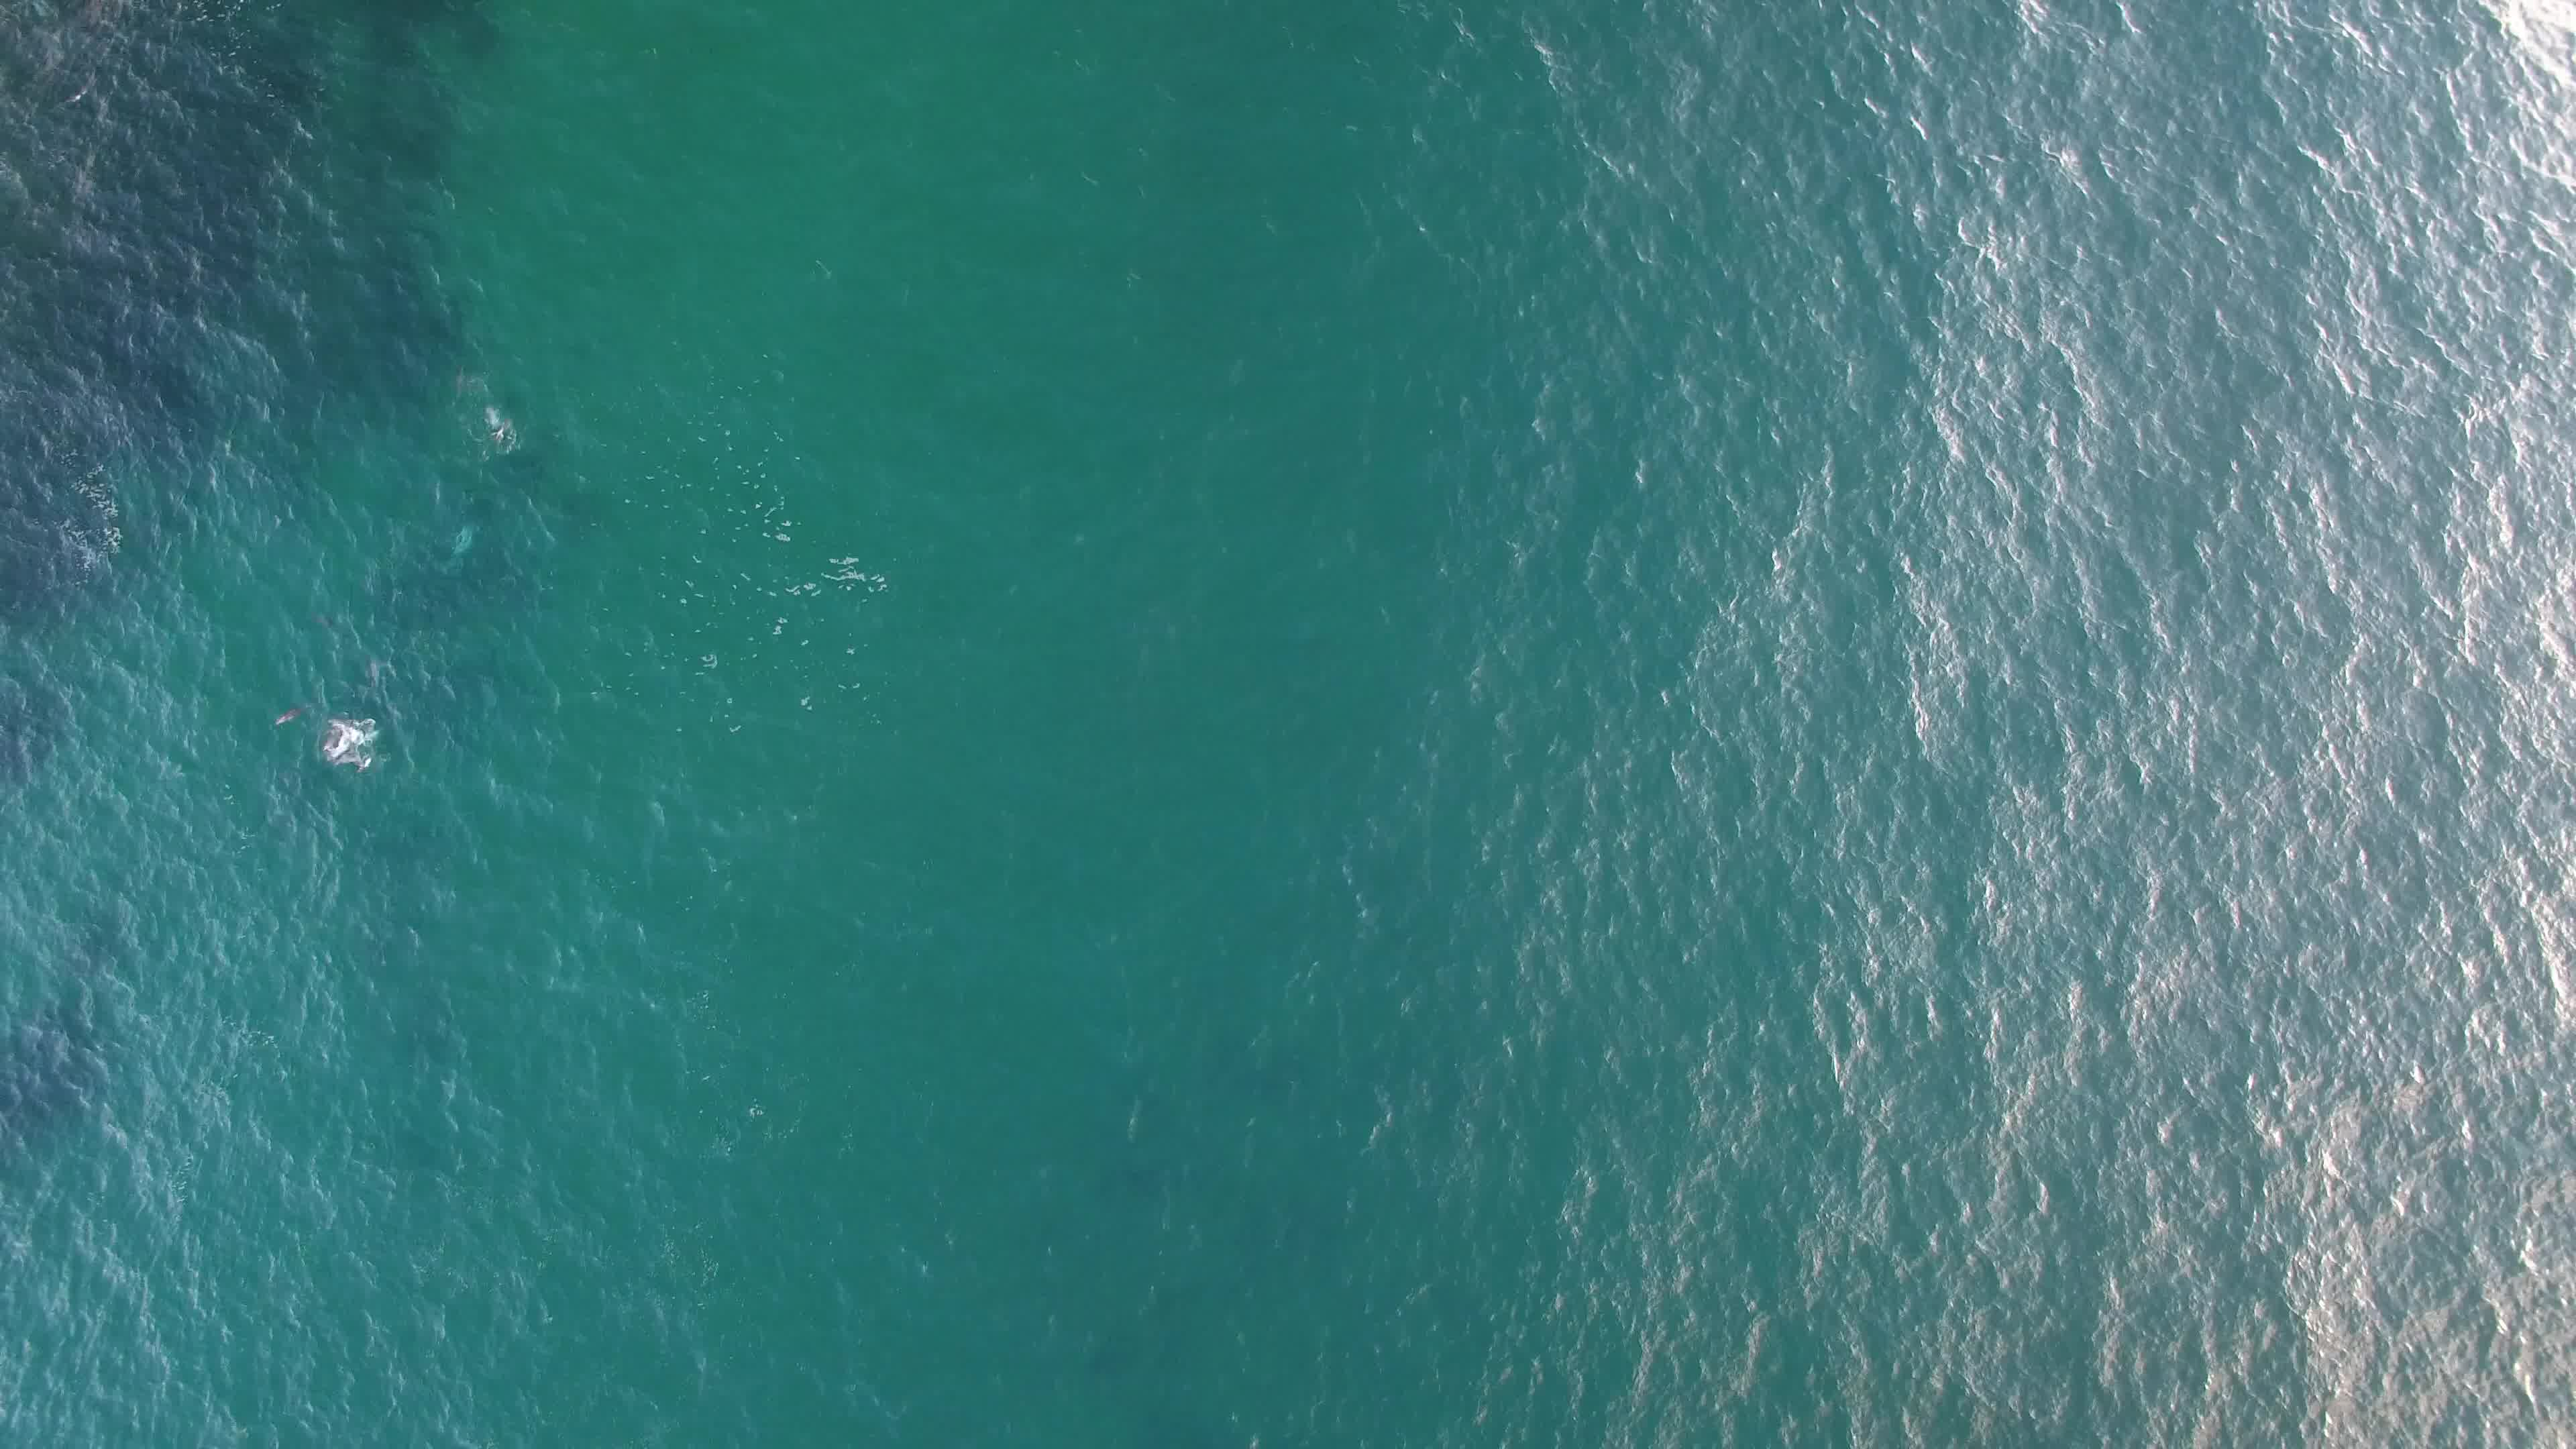dolphin: (253, 688, 326, 734), (318, 713, 375, 768), (478, 403, 517, 451)
